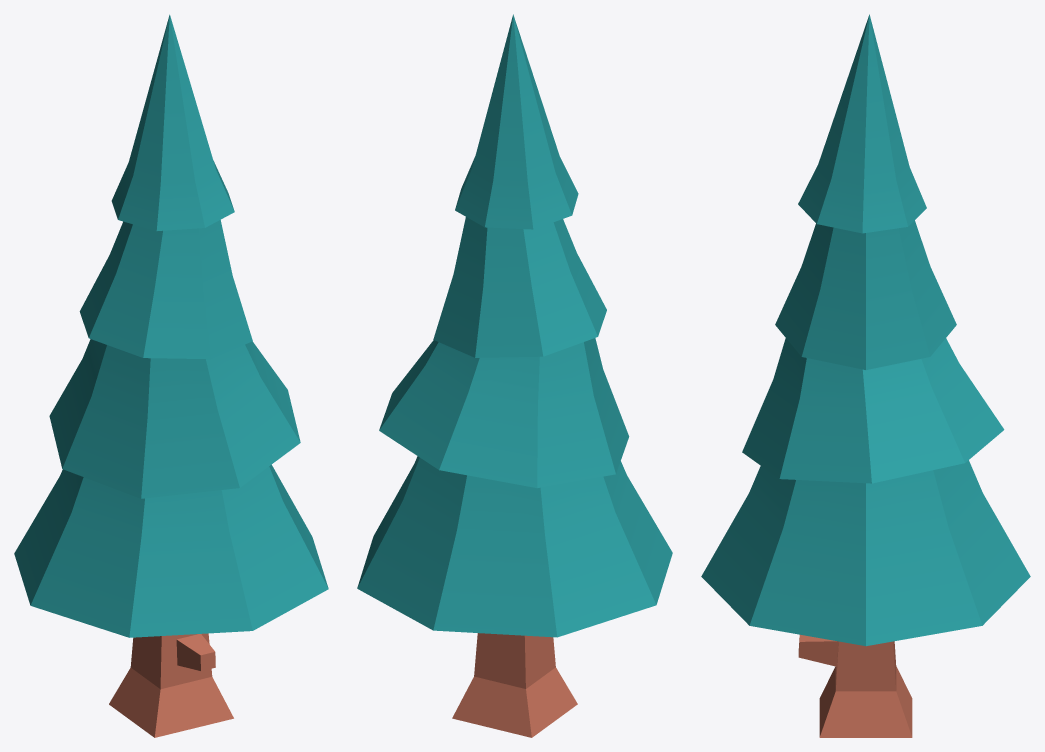
Rendered from tree_pineRoundF.dae.
3 views of the same model, side by side, from view 1: azimuth 30°, elevation 25°; view 2: azimuth 150°, elevation 25°; view 3: azimuth 270°, elevation 25° (orthographic).
Parts seen in each view (by area): view 1: tree_pineRoundF; view 2: tree_pineRoundF; view 3: tree_pineRoundF.
Boxes of the visible parts, box(x1,y1,x2,y2) form: tree_pineRoundF: box(14, 14, 328, 737); tree_pineRoundF: box(357, 14, 672, 737); tree_pineRoundF: box(701, 14, 1030, 737).
Bounding box in the file's own units: 0.532 × 1.25 × 0.532.
